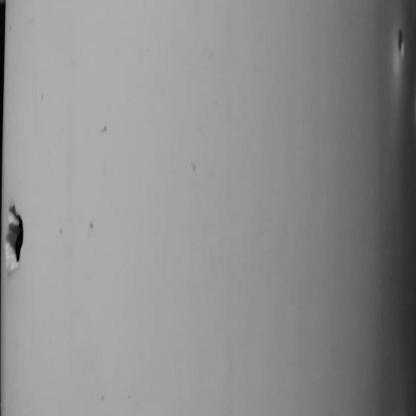kongdong: (1, 199, 42, 274), (383, 25, 411, 63)
